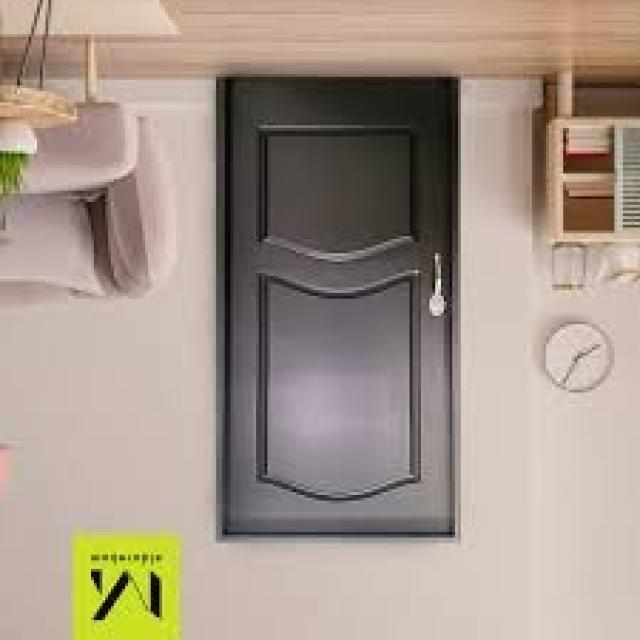door: (218, 77, 460, 543)
